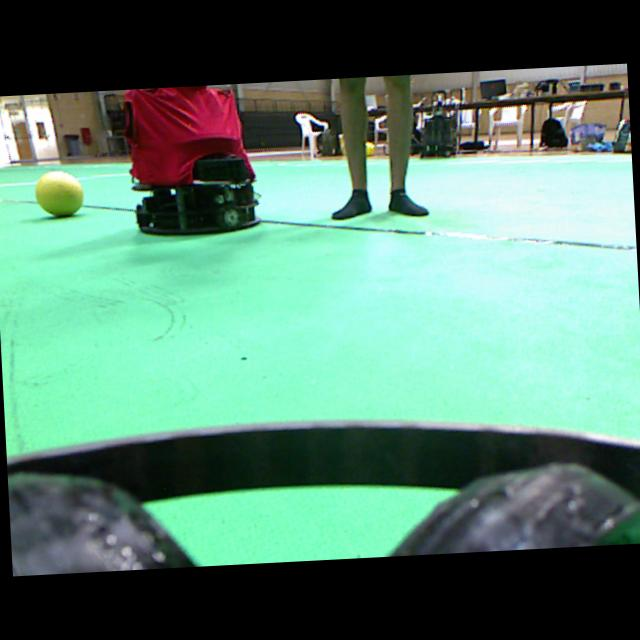ball: (36, 171, 82, 217), (366, 141, 375, 155)
robot: (420, 115, 457, 156)
